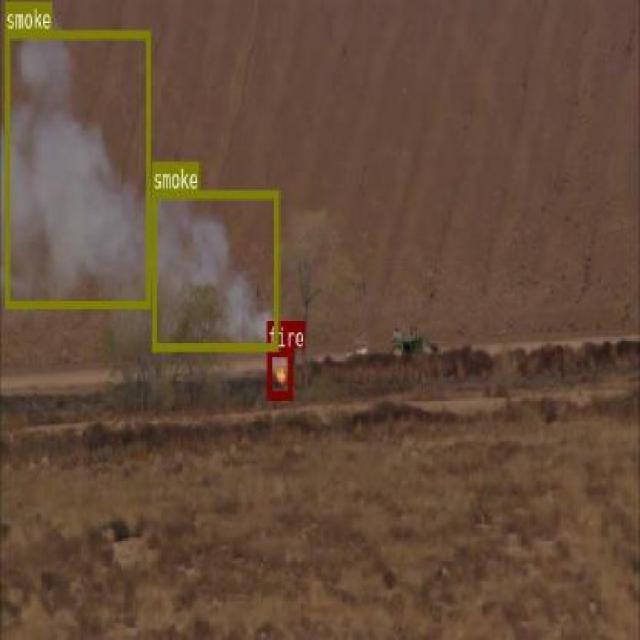Fire: (266, 348, 292, 397)
Smoke: (4, 30, 150, 307), (152, 190, 278, 350)
